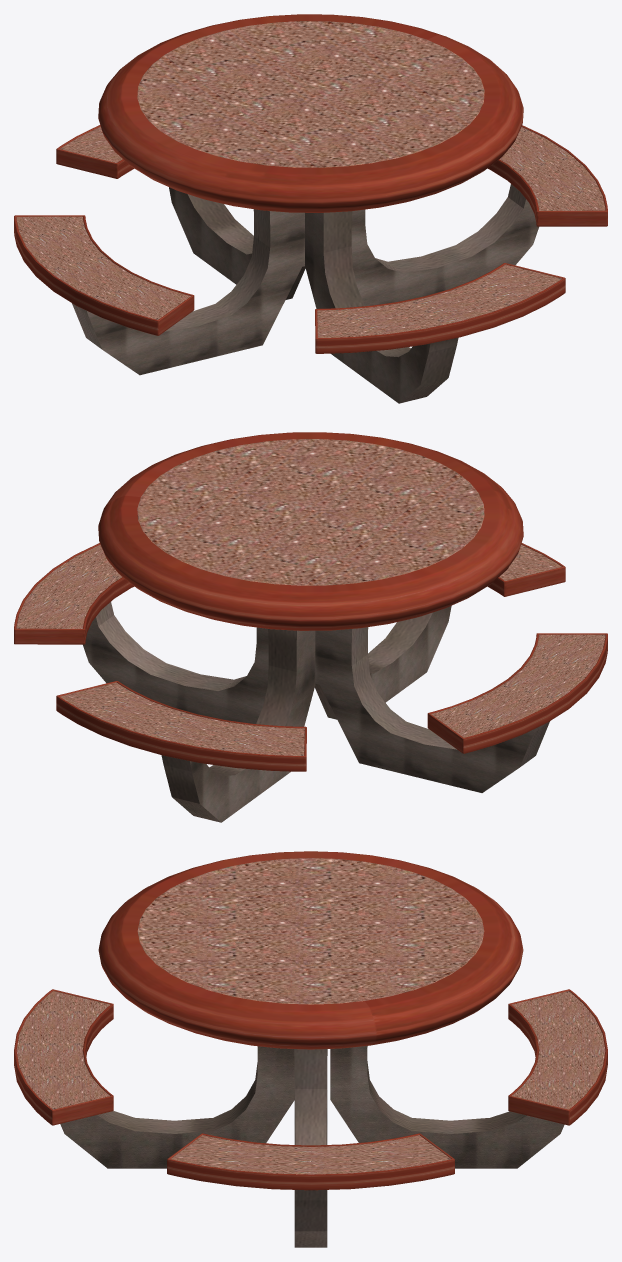
Rendered from Outsidetable.fbx.
3 renders of one model, top to bottom at view 1: azimuth 30°, elevation 25°; view 2: azimuth 150°, elevation 25°; view 3: azimuth 270°, elevation 25°, orthographic.
Visible parts, largest first — view 1: circlecasetable; view 2: circlecasetable; view 3: circlecasetable.
Boxes of the visible parts, x1=… form: circlecasetable: x1=14, y1=14, x2=607, y2=403; circlecasetable: x1=14, y1=432, x2=607, y2=822; circlecasetable: x1=14, y1=851, x2=607, y2=1247.
Bounding box in the file's own units: 9.08 × 3.89 × 9.08.
